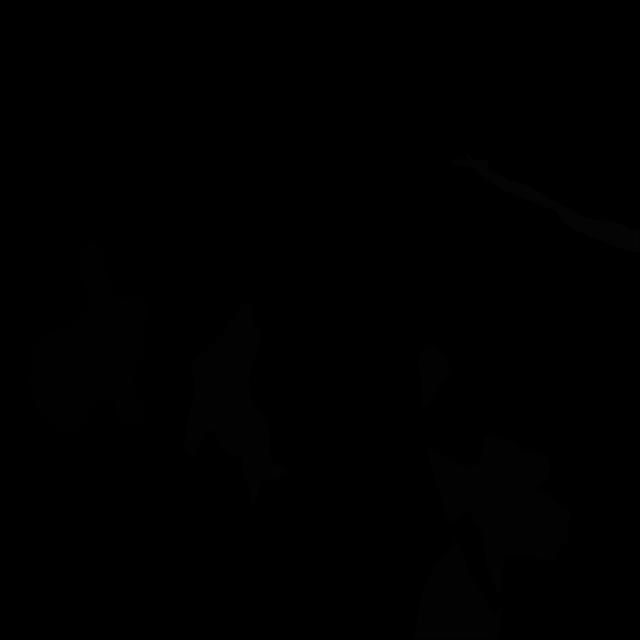cardboard: (426, 432, 572, 598), (184, 300, 287, 506), (414, 532, 502, 639), (418, 346, 452, 412)
rigid_plastic: (28, 241, 149, 434)
soft_plastic: (450, 153, 640, 253)
